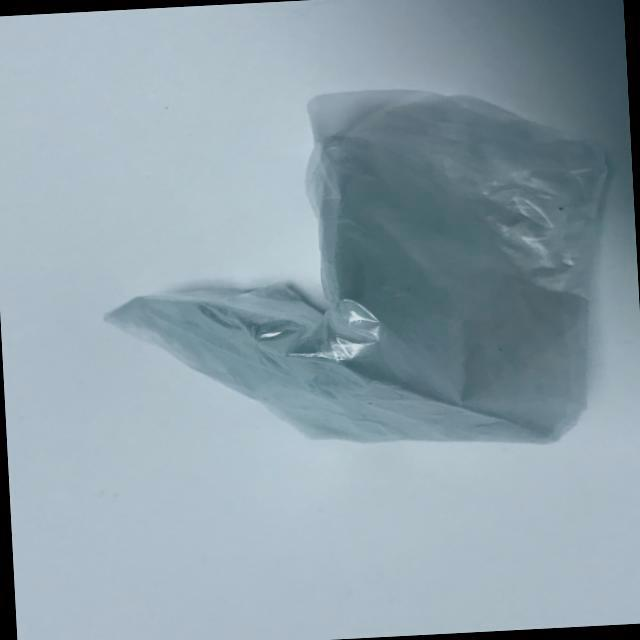plastic: (71, 62, 639, 500)
